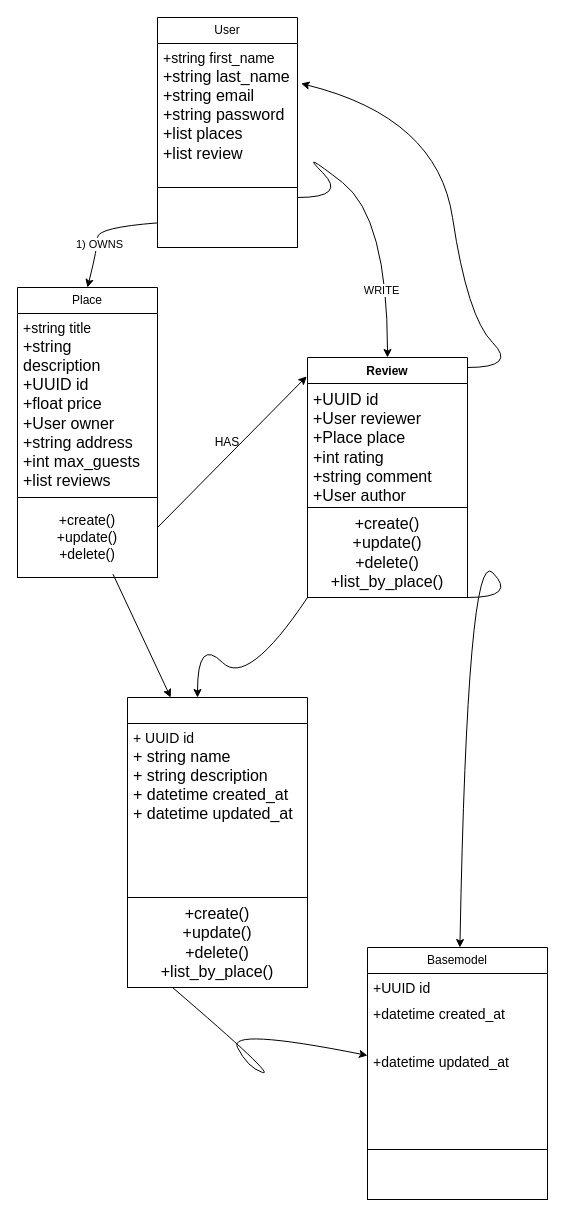
Image size: 565x1217. Some labels were removed from this diagram. Here are the shapes that lost their labels. From the top down, the box of each, then its label:
(156, 186, 298, 248): +create_place() +add_review()
(126, 696, 308, 898): Amenity
(366, 1148, 548, 1200): +save() to_dict()
